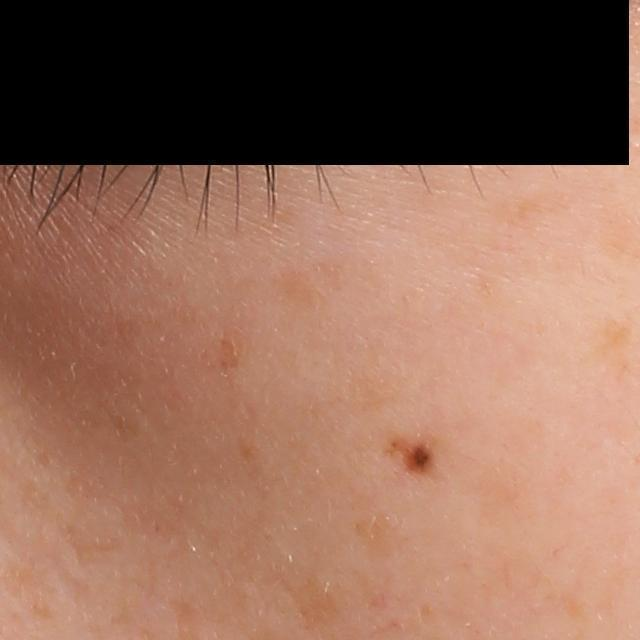melasma: (446, 191, 580, 268), (277, 573, 344, 626), (277, 257, 338, 310), (580, 316, 639, 367)
nevus: (396, 431, 434, 475)
